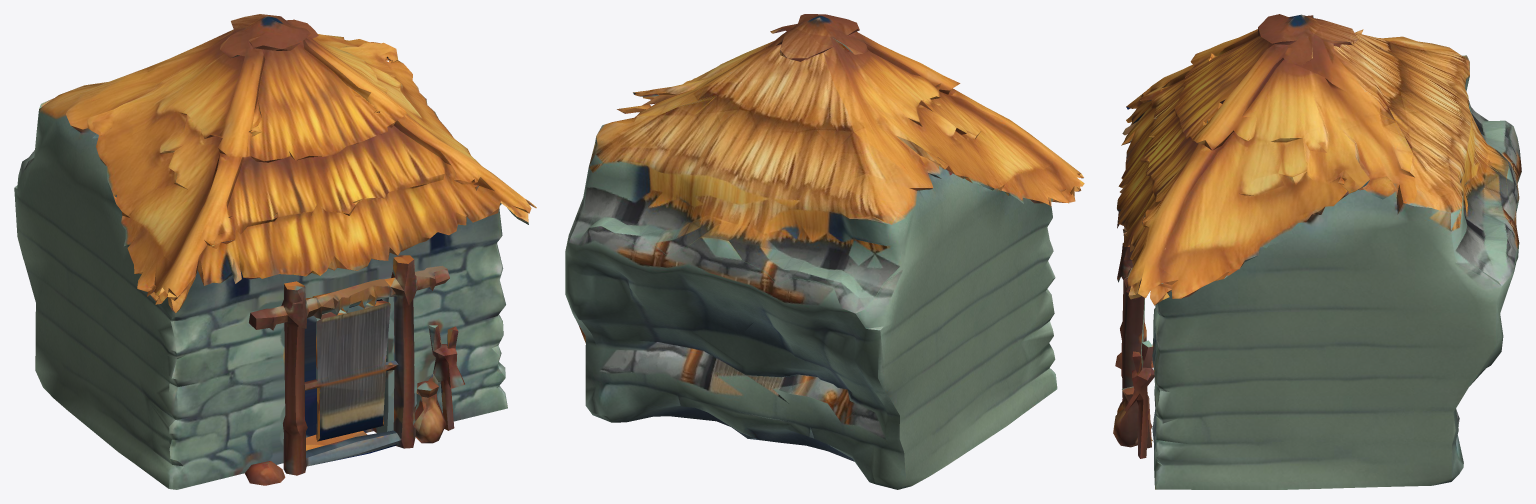
File: tawantinsuyu_taller_tejido.glb
3 views of the same model, side by side, from view 1: azimuth 30°, elevation 25°; view 2: azimuth 150°, elevation 25°; view 3: azimuth 270°, elevation 25° (orthographic). The views are drawn at different scales.
Visible parts, largest first — view 1: geometry_0; view 2: geometry_0; view 3: geometry_0.
Boxes of the visible parts, <box> form: geometry_0: <box>14,14,536,489</box>; geometry_0: <box>565,14,1084,489</box>; geometry_0: <box>1113,14,1521,489</box>.
Bounding box in the file's own units: 1.4 × 1.33 × 1.26.
Materials: 1 (1 with a texture image).
